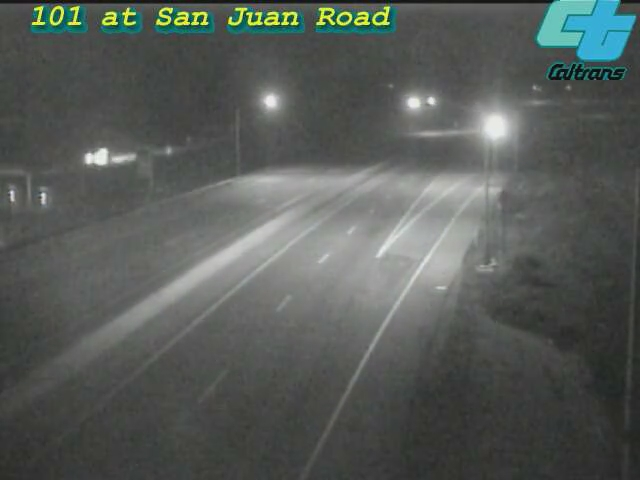vehicle: (468, 102, 518, 152)
